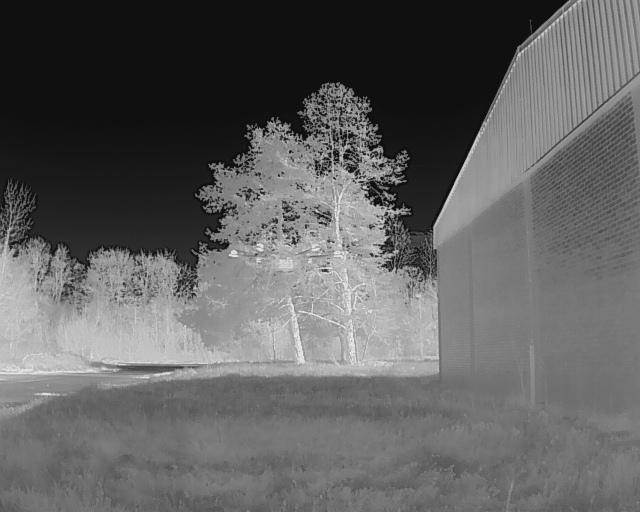drone: (220, 231, 355, 298)
